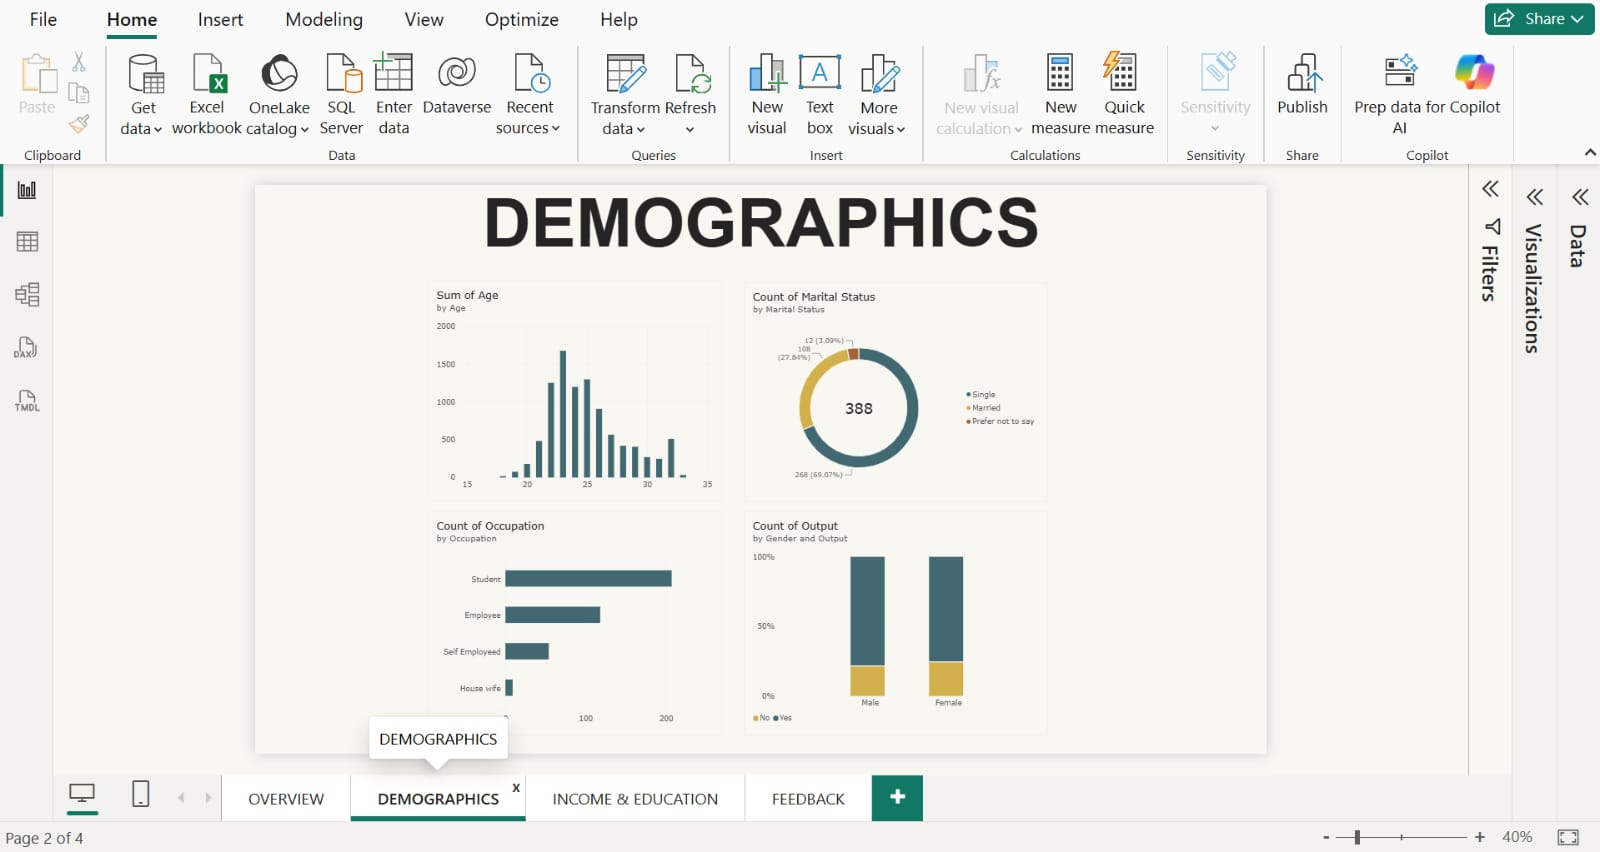

What the dashboard file says about the page in this screenshot:
{"tool":"powerbi","page":{"name":"DEMOGRAPHICS","canvas":[1920,1080],"ordinal":1},"visuals":[{"type":"textbox","box":[266.7,0,1386.7,280],"z":0},{"type":"clusteredColumnChart","fields":{"Category":["food_delivery_clean.Age"],"Y":["Sum(food_delivery_clean.Age)"]},"box":[327.5,182.5,560,417.5],"z":1000},{"type":"donutChart","fields":{"Category":["food_delivery_clean.Marital Status"],"Y":["CountNonNull(food_delivery_clean.Marital Status)"]},"box":[927.5,185,577.5,417.5],"z":2000},{"type":"clusteredBarChart","fields":{"Category":["food_delivery_clean.Occupation"],"Y":["CountNonNull(food_delivery_clean.Occupation)"]},"box":[327.5,620,560,425],"z":3000},{"type":"hundredPercentStackedColumnChart","fields":{"Category":["food_delivery_clean.Gender"],"Series":["food_delivery_clean.Output"],"Y":["CountNonNull(food_delivery_clean.Output)"]},"box":[927.5,620,577.5,425],"z":4000}]}

Visuals, with their boxes on the page's 1920x1080 design canvas (x1, y1, x2, y2). These are canvas units, not pixel positions in the 1600x852 screenshot, which may show the page scaled, cropped or inside an application window:
textbox: rect(267, 0, 1653, 280)
clusteredColumnChart - food_delivery_clean.Age x Sum(food_delivery_clean.Age): rect(328, 182, 888, 600)
donutChart - food_delivery_clean.Marital Status x CountNonNull(food_delivery_clean.Marital Status): rect(928, 185, 1505, 602)
clusteredBarChart - food_delivery_clean.Occupation x CountNonNull(food_delivery_clean.Occupation): rect(328, 620, 888, 1045)
hundredPercentStackedColumnChart - food_delivery_clean.Gender x food_delivery_clean.Output: rect(928, 620, 1505, 1045)
